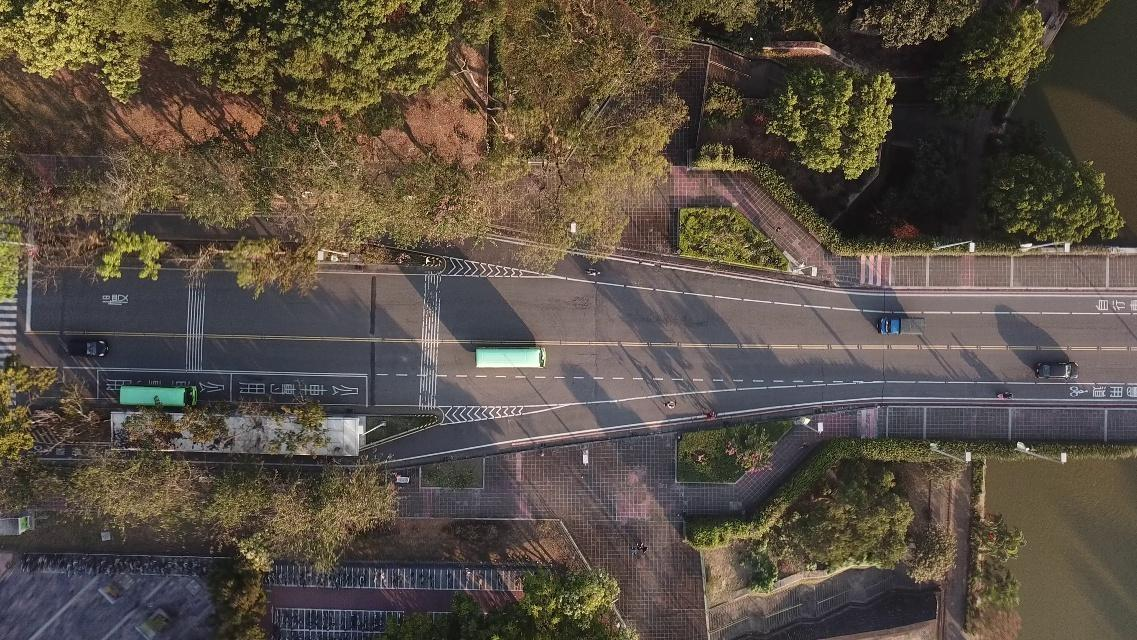Bus: (476, 346, 546, 368), (121, 386, 198, 406)
Car: (1035, 360, 1079, 380), (66, 338, 108, 358)
